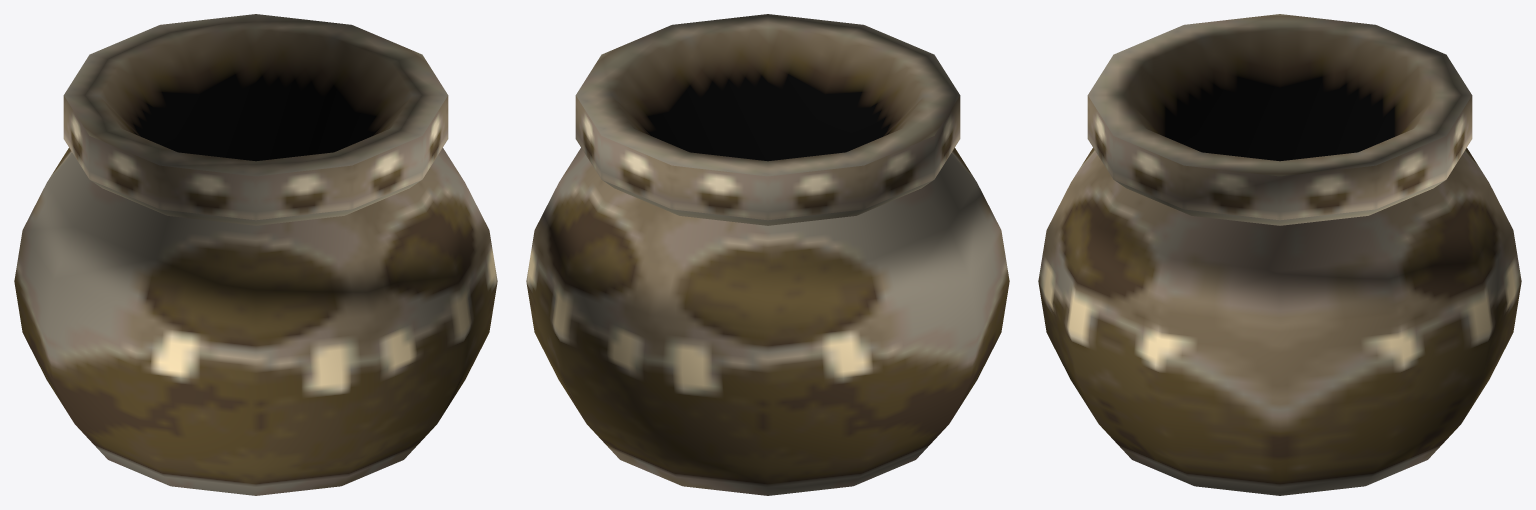
The model's file is ConversionCauldron.fbx.
3 renders of one model, left to right at view 1: azimuth 30°, elevation 25°; view 2: azimuth 150°, elevation 25°; view 3: azimuth 270°, elevation 25°, orthographic.
Parts seen in each view (by area): view 1: Pot; view 2: Pot; view 3: Pot.
Part boxes in pixels (x1,y1,x2,y2): Pot: [14, 14, 497, 495]; Pot: [526, 14, 1009, 495]; Pot: [1038, 14, 1521, 495].
Bounding box in the file's own units: 5625 × 4219 × 5625.
